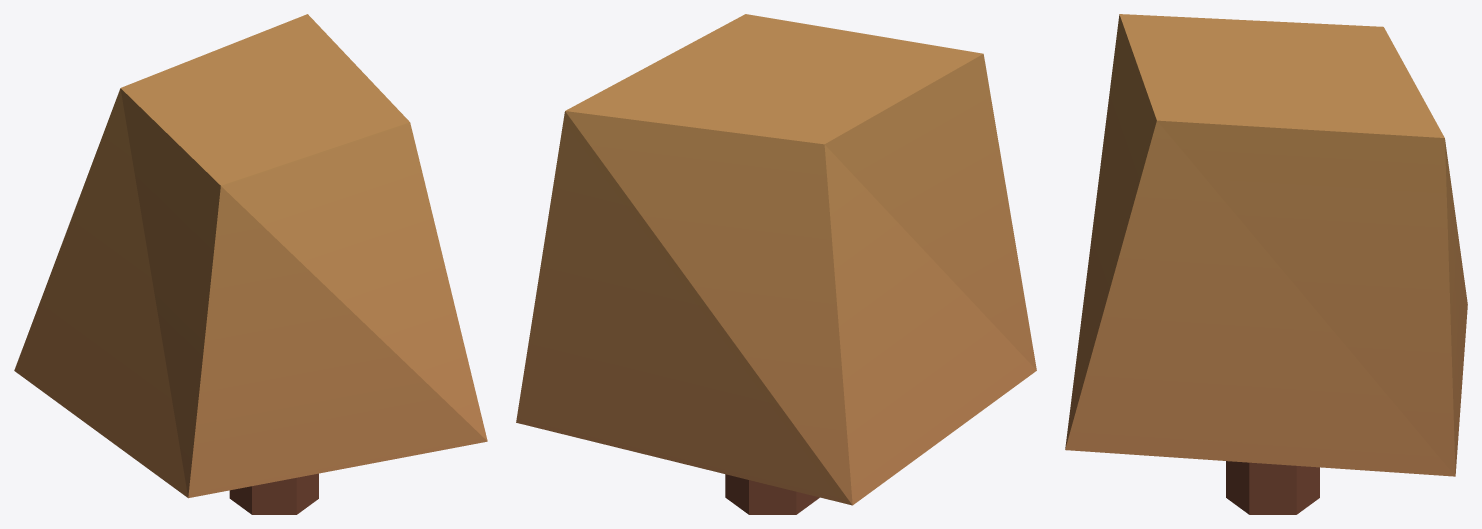
File: Bush_11_gradient_yellow_vc.fbx
3 views of the same model, side by side, from view 1: azimuth 30°, elevation 25°; view 2: azimuth 150°, elevation 25°; view 3: azimuth 270°, elevation 25° (orthographic). The views are drawn at different scales.
Parts seen in each view (by area): view 1: Bush_11_gradient_yellow_vc; view 2: Bush_11_gradient_yellow_vc; view 3: Bush_11_gradient_yellow_vc.
Part boxes in pixels (x1=…): Bush_11_gradient_yellow_vc: x1=14, y1=14, x2=487, y2=514; Bush_11_gradient_yellow_vc: x1=516, y1=14, x2=1036, y2=514; Bush_11_gradient_yellow_vc: x1=1065, y1=14, x2=1467, y2=514.
Bounding box in the file's own units: 50.88 × 59.59 × 51.95.
